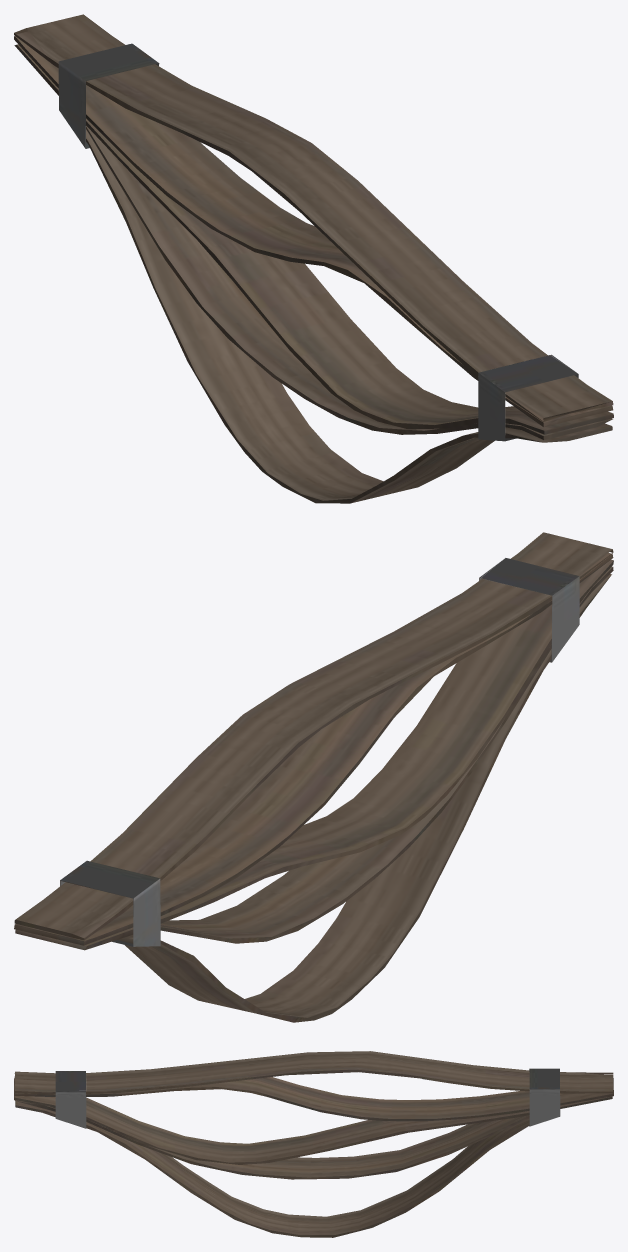
The model's file is WallBookshelf0001.obj.
The picture shows the model from 3 angles, top to bottom: view 1: azimuth 30°, elevation 25°; view 2: azimuth 150°, elevation 25°; view 3: azimuth 270°, elevation 25°; orthographic projection. The views are drawn at different scales.
Bounding box in the file's own units: 0.182 × 0.703 × 2.27.
1 material, 1 textured.
